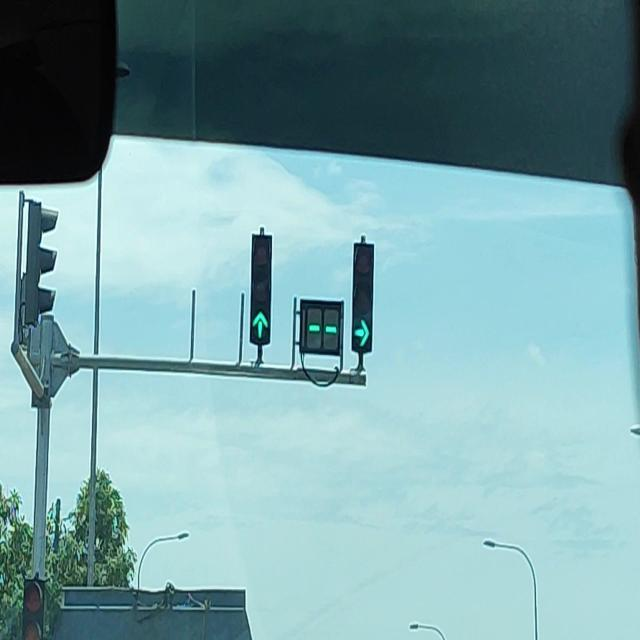green_light: (350, 242, 374, 354), (250, 232, 272, 346)
